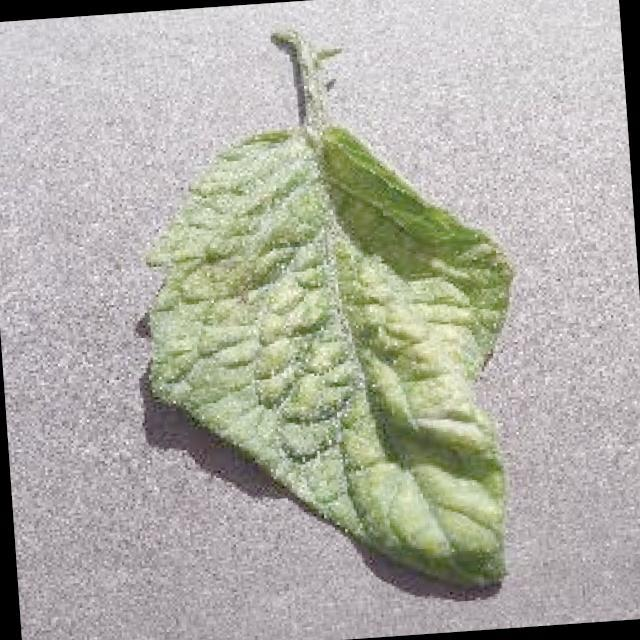Tomato spider mites leaf: (138, 110, 534, 610)
